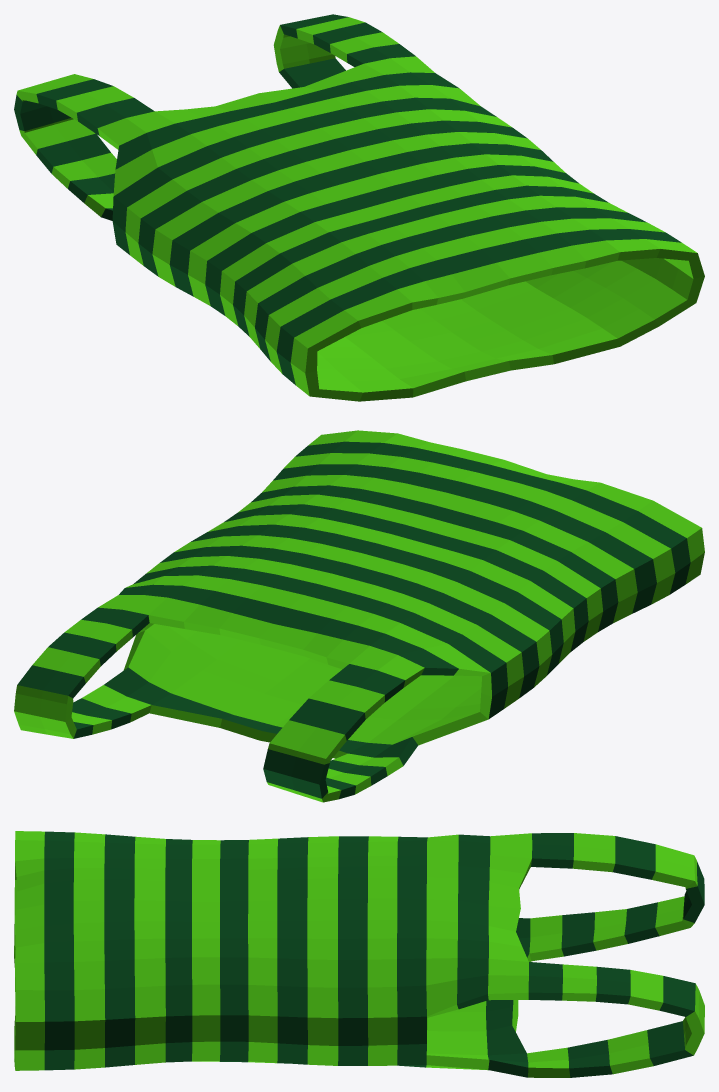
Rendered from Tank Top 3.fbx.
3 views of the same model, one above another, from view 1: azimuth 30°, elevation 25°; view 2: azimuth 150°, elevation 25°; view 3: azimuth 270°, elevation 25° (orthographic). The views are drawn at different scales.
Visible parts, largest first — view 1: Node 0; view 2: Node 0; view 3: Node 0.
Boxes of the visible parts, x1,y1,x2,y2 form: Node 0: (14, 14, 704, 401); Node 0: (14, 430, 704, 802); Node 0: (14, 831, 704, 1077).
Bounding box in the file's own units: 0.8881 × 0.1743 × 0.596.
